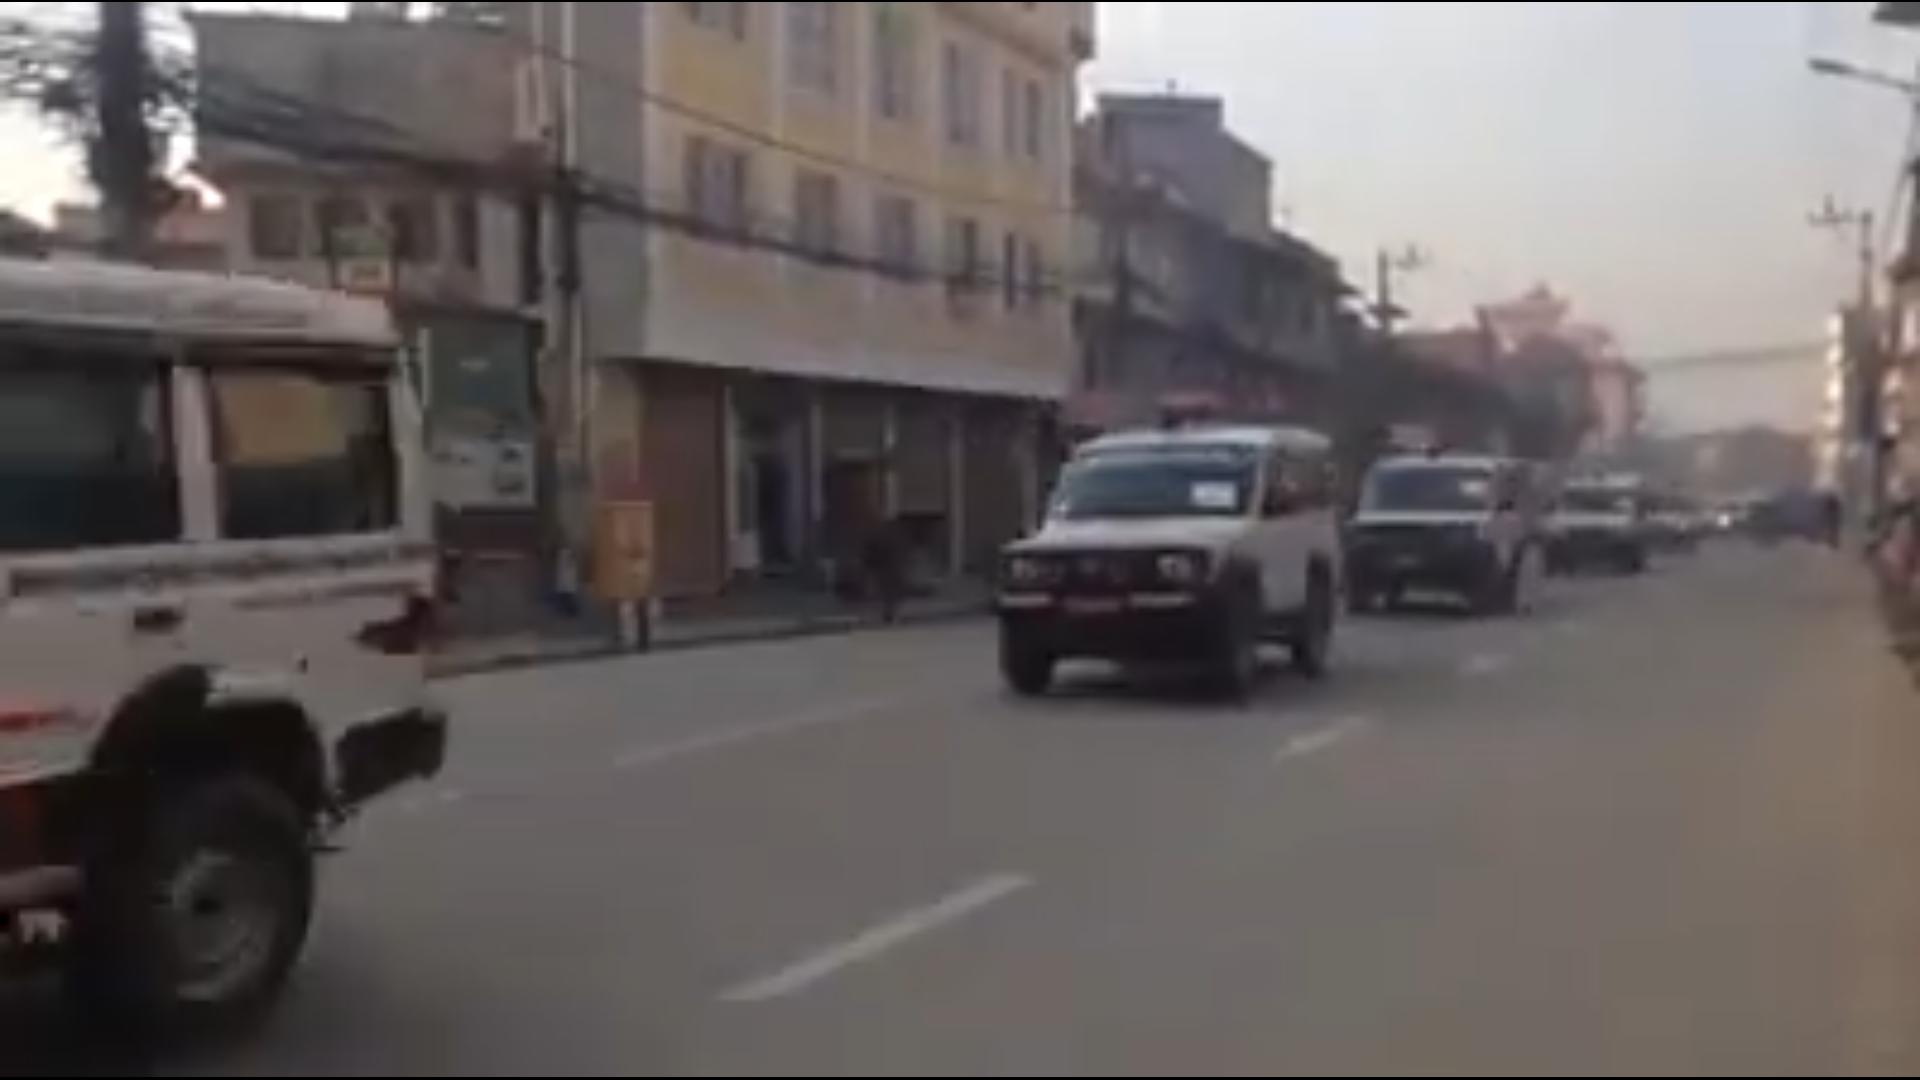ambulance: (985, 392, 1356, 708)
